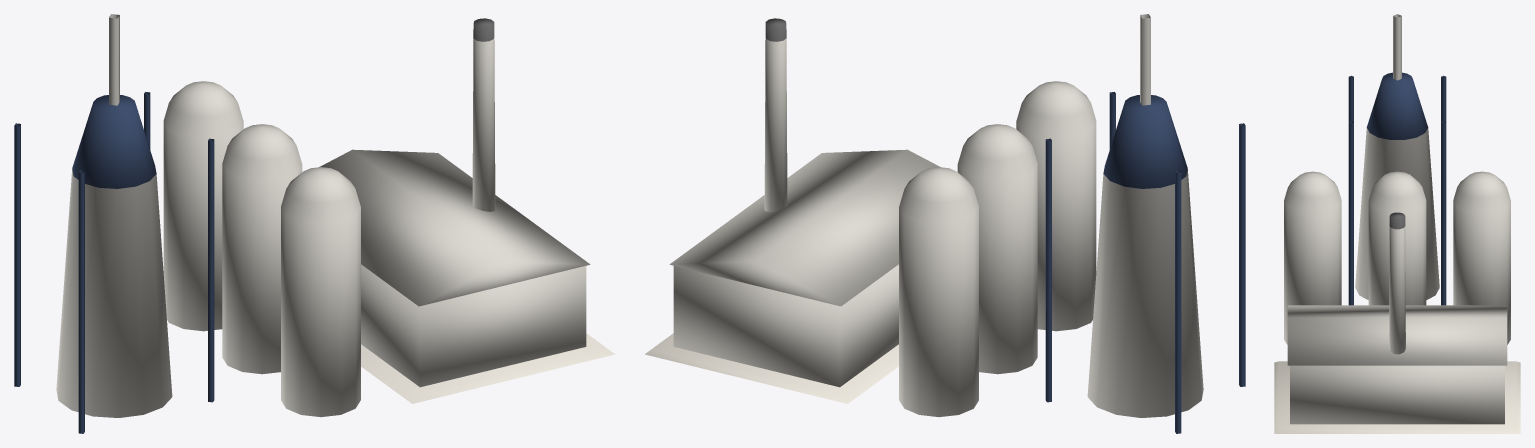
File: alto-forno.glb
The picture shows the model from 3 angles, left to right: view 1: azimuth 30°, elevation 25°; view 2: azimuth 150°, elevation 25°; view 3: azimuth 270°, elevation 25°; orthographic projection. The views are drawn at different scales.
Visible parts, largest first — view 1: alto-forno; view 2: alto-forno; view 3: alto-forno.
Part boxes in pixels (x1=…): alto-forno: x1=14, y1=14, x2=614, y2=433; alto-forno: x1=645, y1=14, x2=1245, y2=433; alto-forno: x1=1274, y1=14, x2=1520, y2=433.
Bounding box in the file's own units: 105 × 78 × 64.
